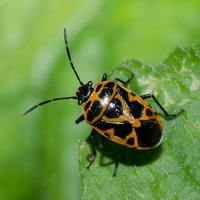insect: (23, 28, 184, 175)
